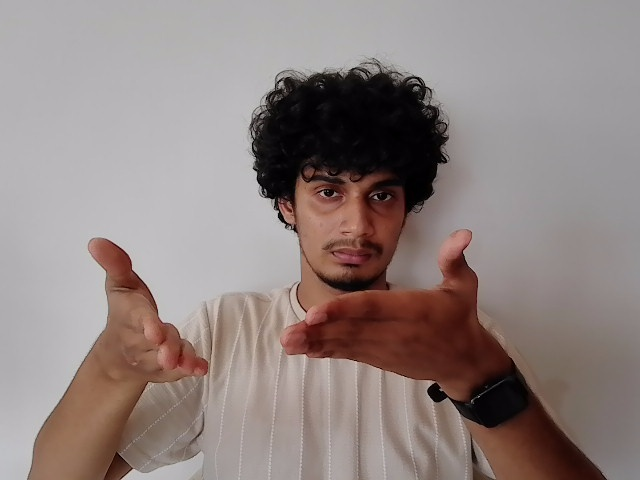here: (84, 235, 479, 386)
